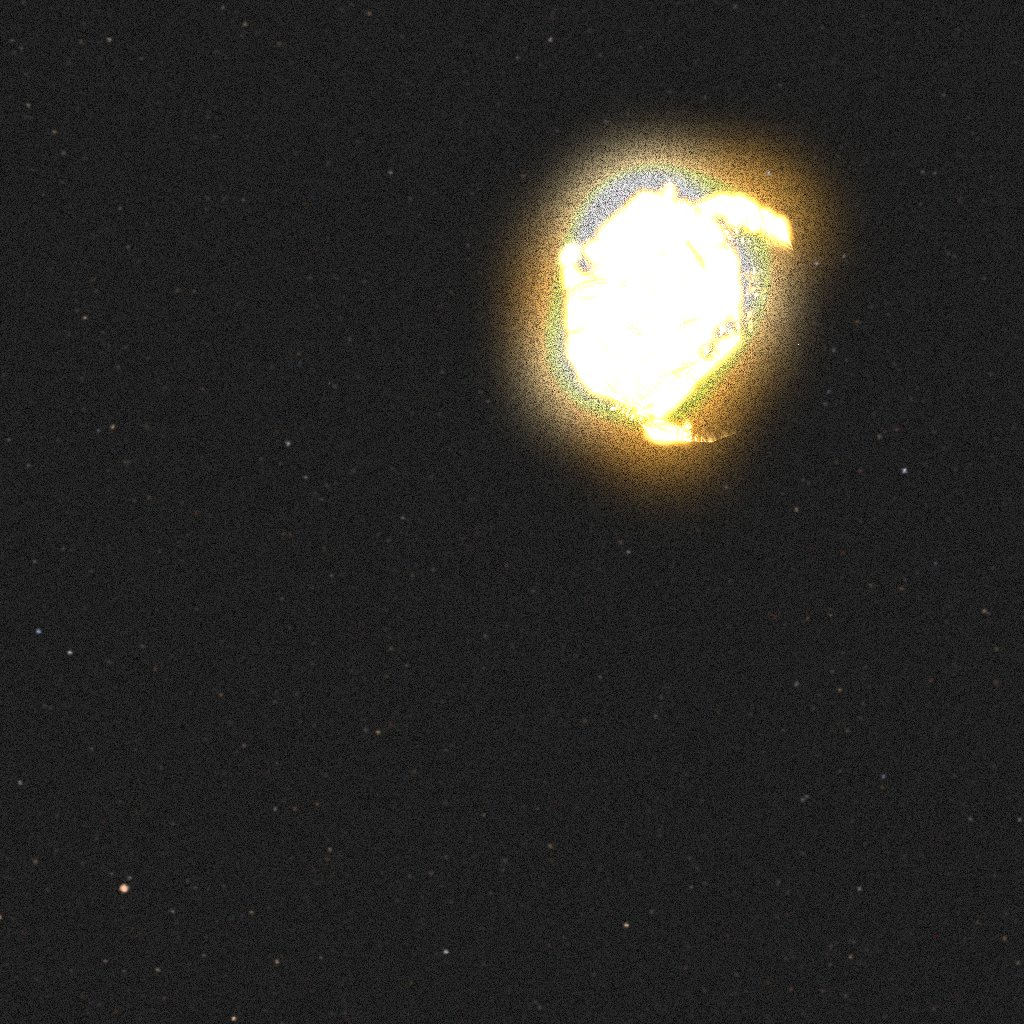lisa_pathfinder: (538, 174, 798, 444)
